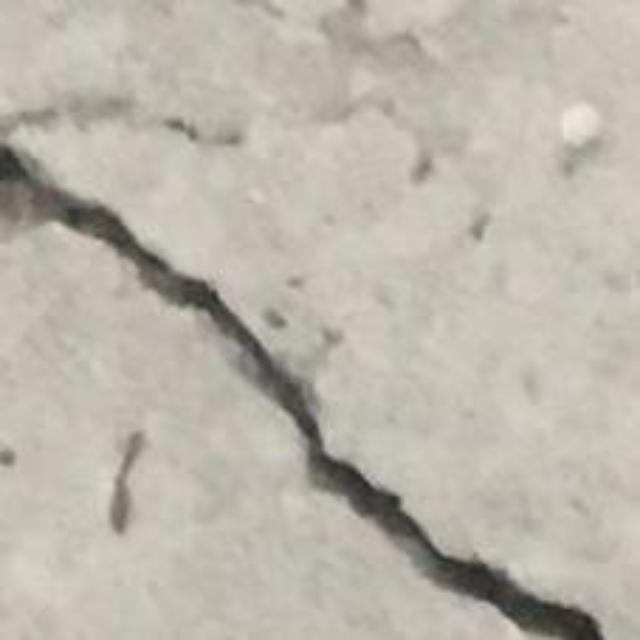crack: (0, 99, 606, 639)
